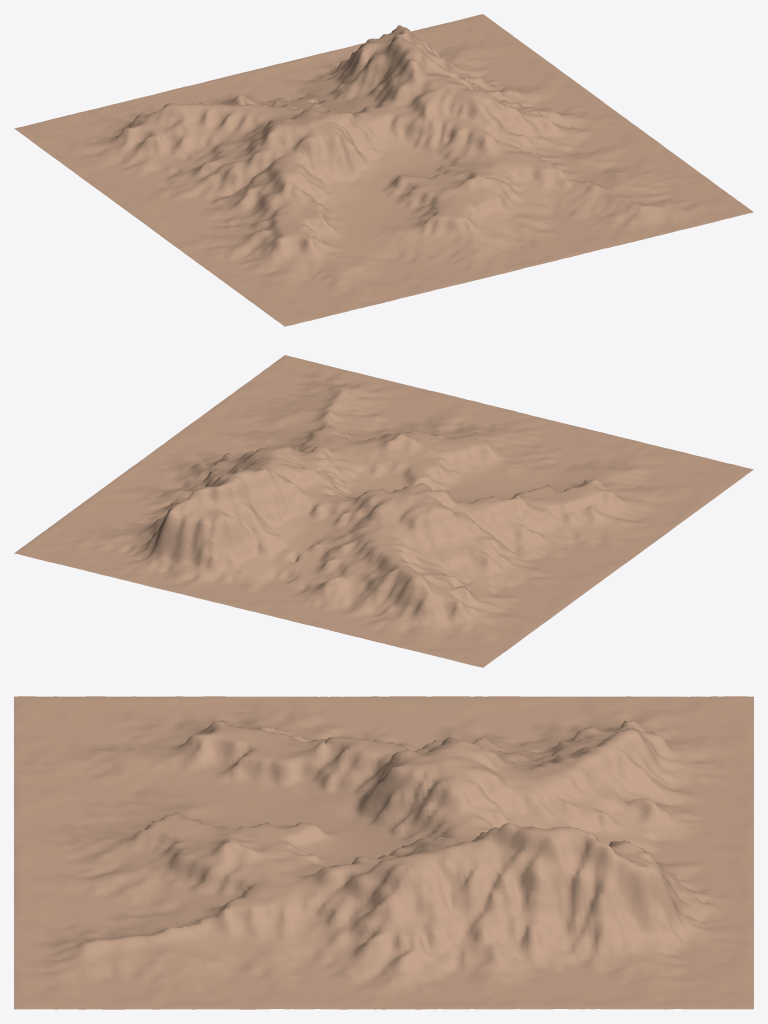
The picture shows the model from 3 angles, top to bottom: view 1: azimuth 30°, elevation 25°; view 2: azimuth 150°, elevation 25°; view 3: azimuth 270°, elevation 25°; orthographic projection. The views are drawn at different scales.
Parts seen in each view (by area): view 1: DM_lod_3; view 2: DM_lod_3; view 3: DM_lod_3.
Part boxes in pixels (box(x1,y1,x2,y2)): DM_lod_3: box(14, 14, 753, 326); DM_lod_3: box(14, 355, 753, 667); DM_lod_3: box(14, 696, 753, 1009).
Bounding box in the file's own units: 300 × 36.58 × 300.
